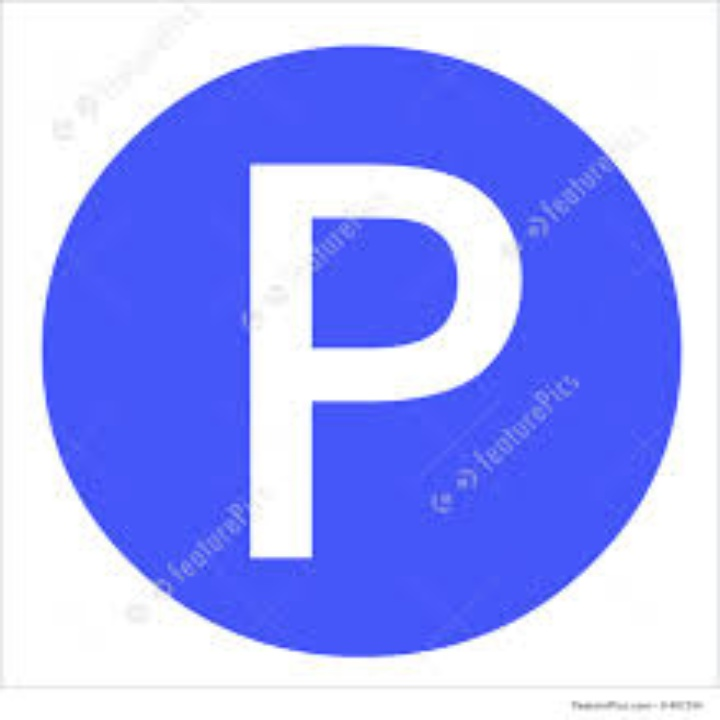parking: (227, 151, 530, 574)
